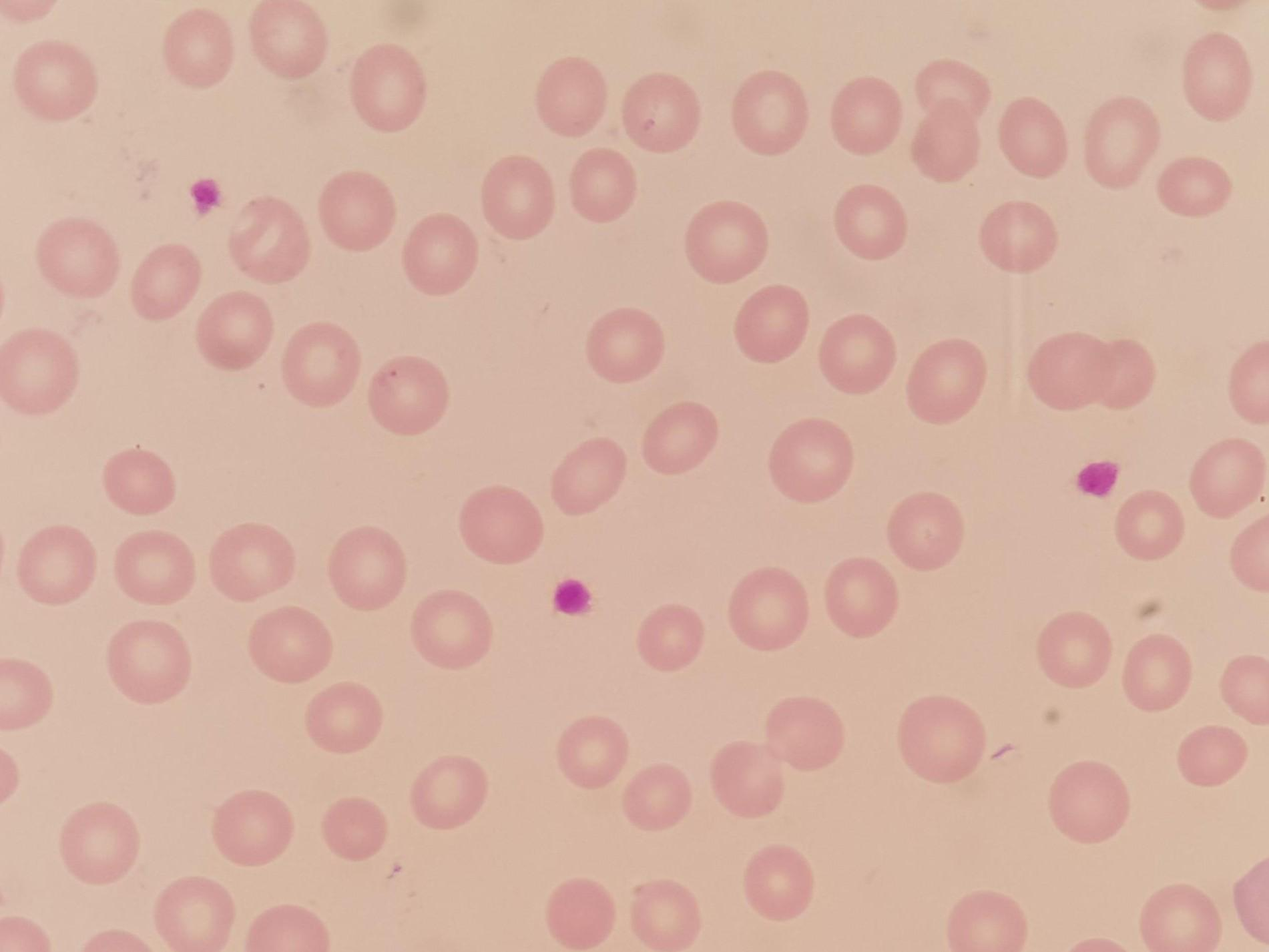Uninfected: (716, 775, 828, 866), (221, 673, 342, 742), (326, 79, 447, 144), (596, 576, 714, 641), (1088, 261, 1208, 322), (1015, 812, 1136, 872), (888, 513, 1003, 576), (453, 245, 569, 307), (723, 209, 840, 270), (397, 546, 512, 608), (141, 786, 256, 848), (465, 155, 574, 219), (890, 172, 1006, 232), (702, 680, 818, 739), (88, 44, 200, 105), (1105, 10, 1215, 72), (686, 275, 797, 336), (111, 157, 219, 219), (1062, 467, 1173, 527), (374, 307, 482, 368), (869, 27, 977, 88), (512, 346, 616, 409), (459, 13, 570, 72), (740, 614, 851, 673), (347, 777, 454, 838), (947, 360, 1063, 416), (1160, 185, 1268, 245), (714, 1, 829, 57), (1029, 748, 1143, 804), (1146, 119, 1257, 176), (931, 239, 1039, 297), (0, 115, 101, 177), (782, 550, 891, 607), (576, 892, 685, 949), (1103, 886, 1222, 938), (460, 85, 563, 145), (772, 145, 880, 202), (506, 666, 614, 723), (911, 628, 1029, 680), (874, 302, 983, 358), (579, 413, 686, 470), (1060, 622, 1168, 678), (755, 439, 859, 497), (1084, 401, 1193, 456), (179, 533, 282, 591), (416, 618, 524, 673), (36, 557, 142, 613), (837, 97, 946, 151), (239, 575, 340, 633), (358, 187, 459, 245), (161, 307, 263, 364), (903, 734, 1002, 792), (318, 841, 424, 895), (633, 481, 734, 537), (0, 854, 89, 916), (263, 229, 361, 285), (3, 407, 101, 462), (1026, 684, 1129, 736), (216, 418, 314, 472), (0, 709, 82, 773), (1, 473, 97, 527), (970, 428, 1071, 479), (1074, 550, 1167, 605), (579, 76, 671, 131), (977, 868, 1063, 925), (520, 836, 614, 888), (371, 477, 465, 529), (160, 466, 251, 519), (120, 241, 208, 291), (1104, 686, 1189, 737), (218, 883, 302, 934)
